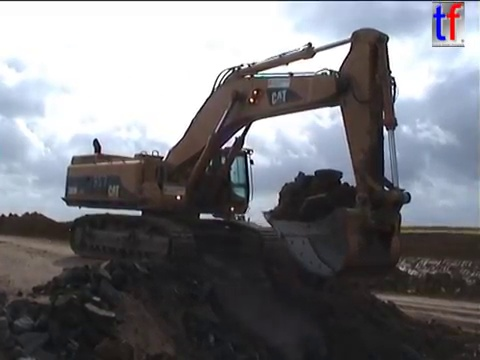excavator: (58, 25, 415, 282)
